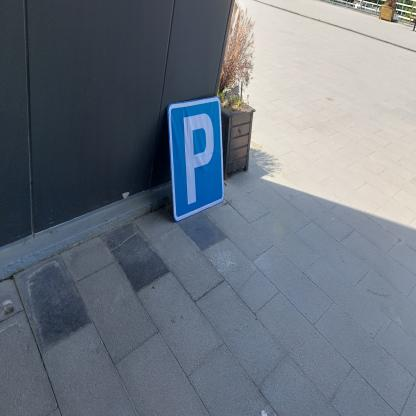Parking-Sign: (168, 97, 226, 221)
